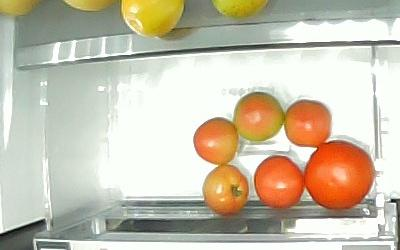tomato: (302, 138, 374, 209), (231, 90, 284, 142), (253, 154, 305, 207), (201, 163, 249, 214), (283, 98, 332, 147), (192, 116, 239, 164)
